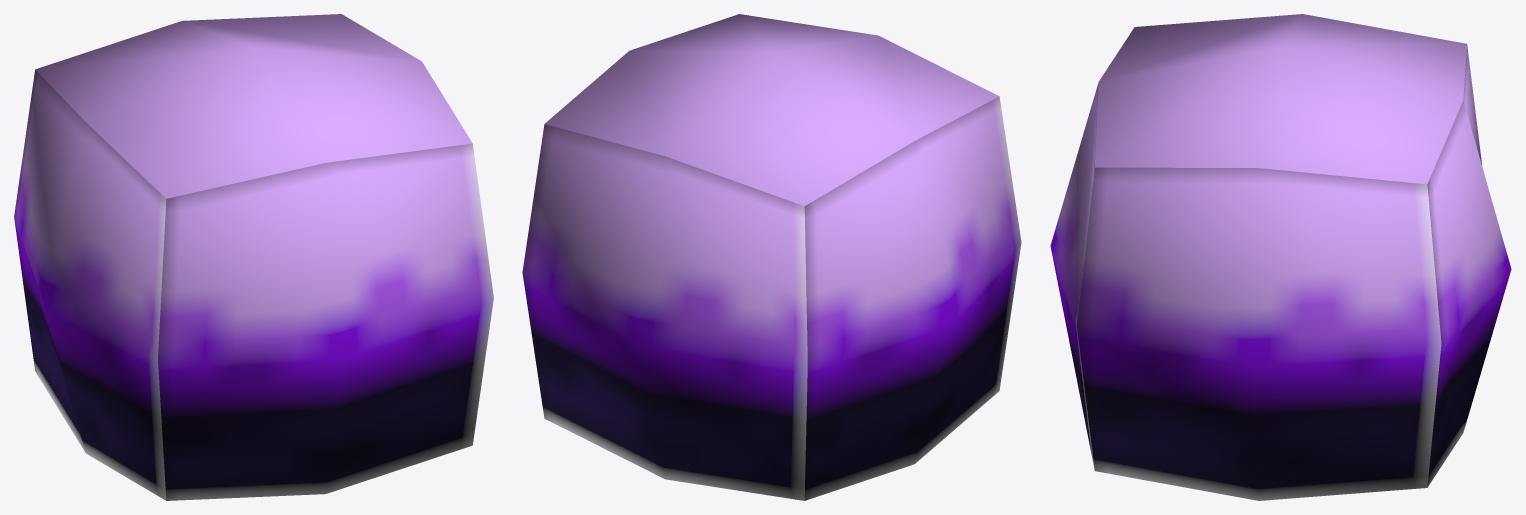
File: orb.obj
The picture shows the model from 3 angles, left to right: view 1: azimuth 30°, elevation 25°; view 2: azimuth 150°, elevation 25°; view 3: azimuth 270°, elevation 25°; orthographic projection. The views are drawn at different scales.
Visible parts, largest first — view 1: Cube.006; view 2: Cube.006; view 3: Cube.006.
Boxes of the visible parts, x1=… form: Cube.006: x1=14, y1=14, x2=493, y2=500; Cube.006: x1=522, y1=14, x2=1021, y2=500; Cube.006: x1=1050, y1=14, x2=1511, y2=500.
Bounding box in the file's own units: 0.9929 × 1 × 0.9929.
1 material, 1 textured.
